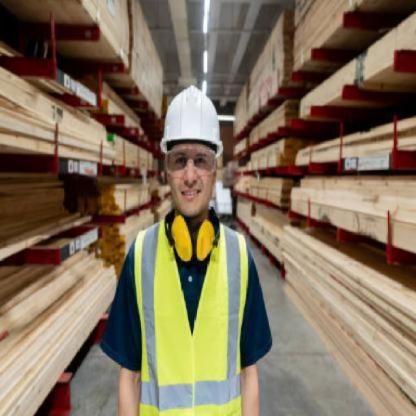vest: (134, 219, 254, 415)
white: (151, 82, 231, 157)
